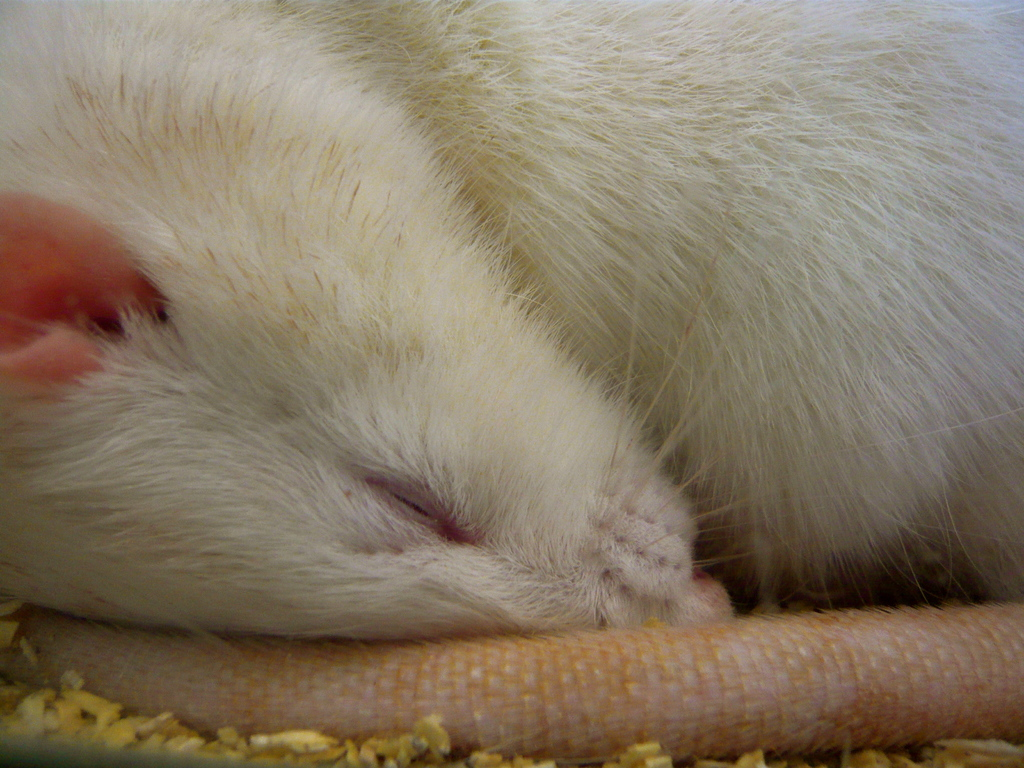face: (0, 239, 152, 400)
